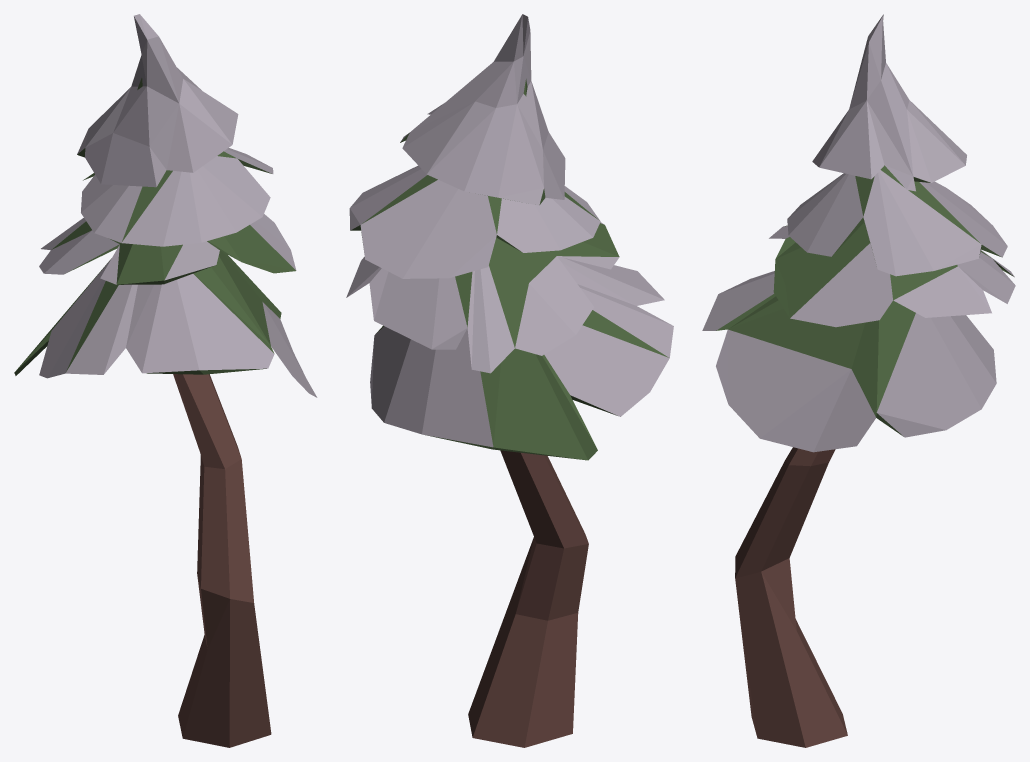
File: pine-tree-show-4.gltf
3 renders of one model, left to right at view 1: azimuth 30°, elevation 25°; view 2: azimuth 150°, elevation 25°; view 3: azimuth 270°, elevation 25°, orthographic. The views are drawn at different scales.
Parts seen in each view (by area): view 1: PineTree_Snow_4_Cylinder.077; view 2: PineTree_Snow_4_Cylinder.077; view 3: PineTree_Snow_4_Cylinder.077.
Boxes of the visible parts, left/top/right/bottom form: PineTree_Snow_4_Cylinder.077: left=14, top=14, right=317, bottom=747; PineTree_Snow_4_Cylinder.077: left=346, top=14, right=673, bottom=747; PineTree_Snow_4_Cylinder.077: left=702, top=14, right=1015, bottom=747.
Bounding box in the file's own units: 0.0124 × 0.0334 × 0.0138.
